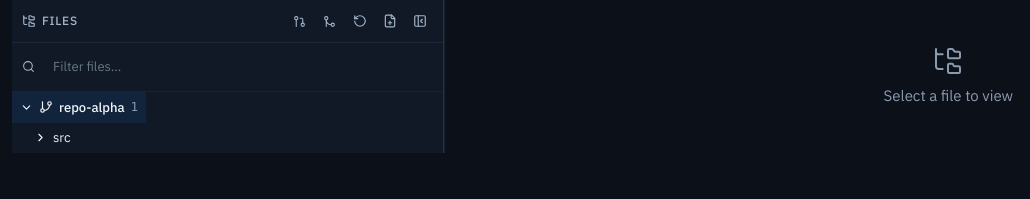
UnifiedRepoView lazy directory tree › expands directories with repo ids that contain double colons
Click the button "src" at (45, 138), box [12, 123, 79, 152]
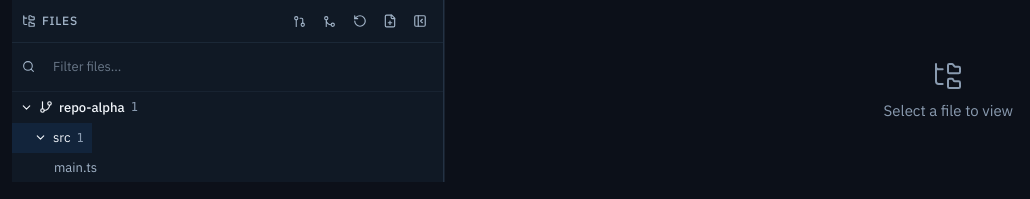
Result: the button titled "src/main.ts" is shown at [12, 153, 437, 182]
